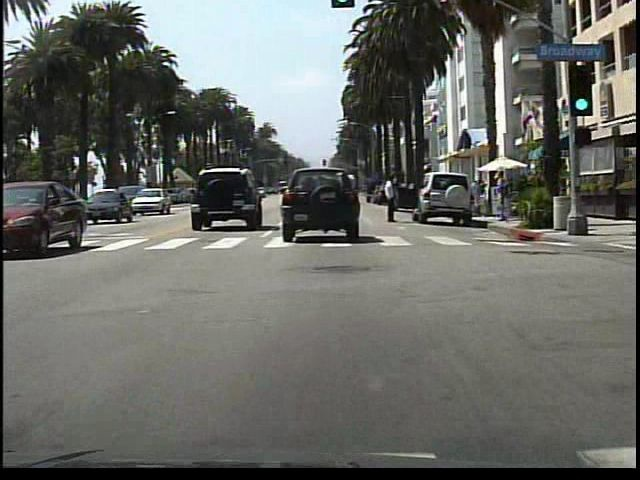person: (379, 171, 402, 228)
